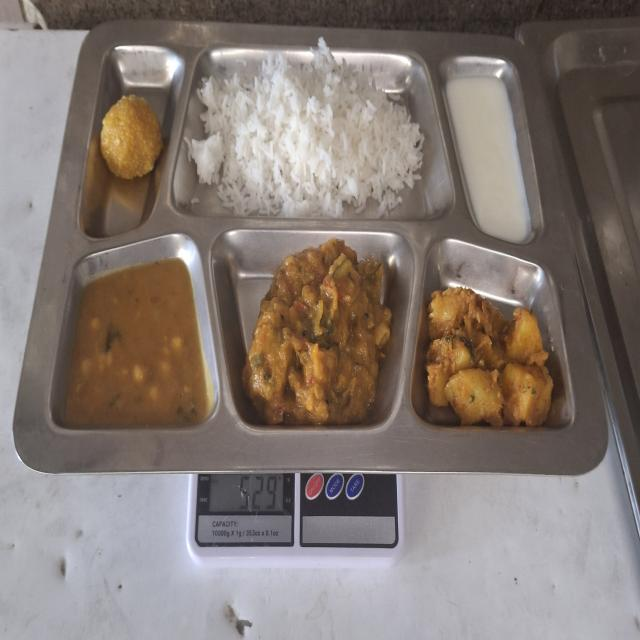Aloo Sabji: (426, 282, 555, 432)
Curd: (448, 73, 532, 246)
Dal: (64, 253, 210, 432)
Laddu: (98, 92, 163, 185)
Pumpkin Sabji: (248, 237, 390, 430)
White Rice: (191, 43, 424, 218)
